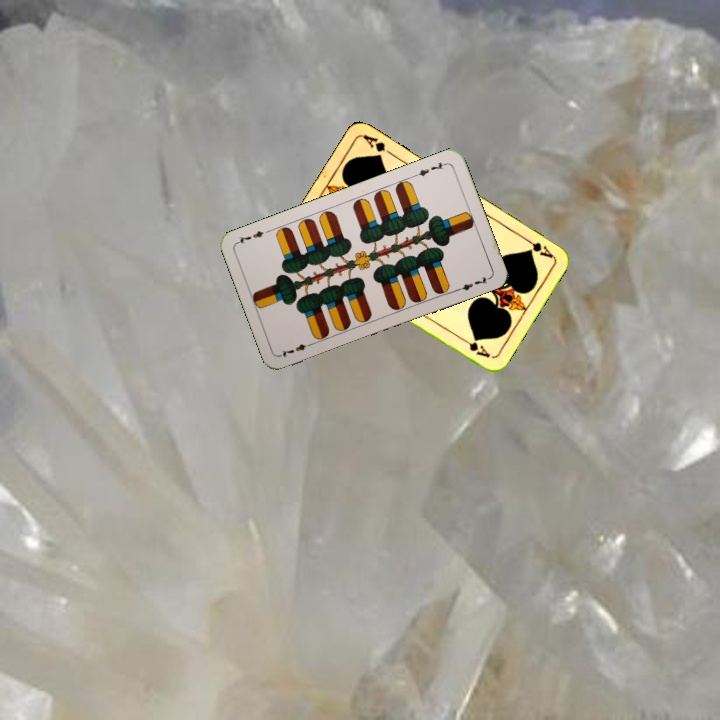E7: (277, 338, 316, 360), (410, 158, 449, 179)
GA: (519, 233, 556, 261)
